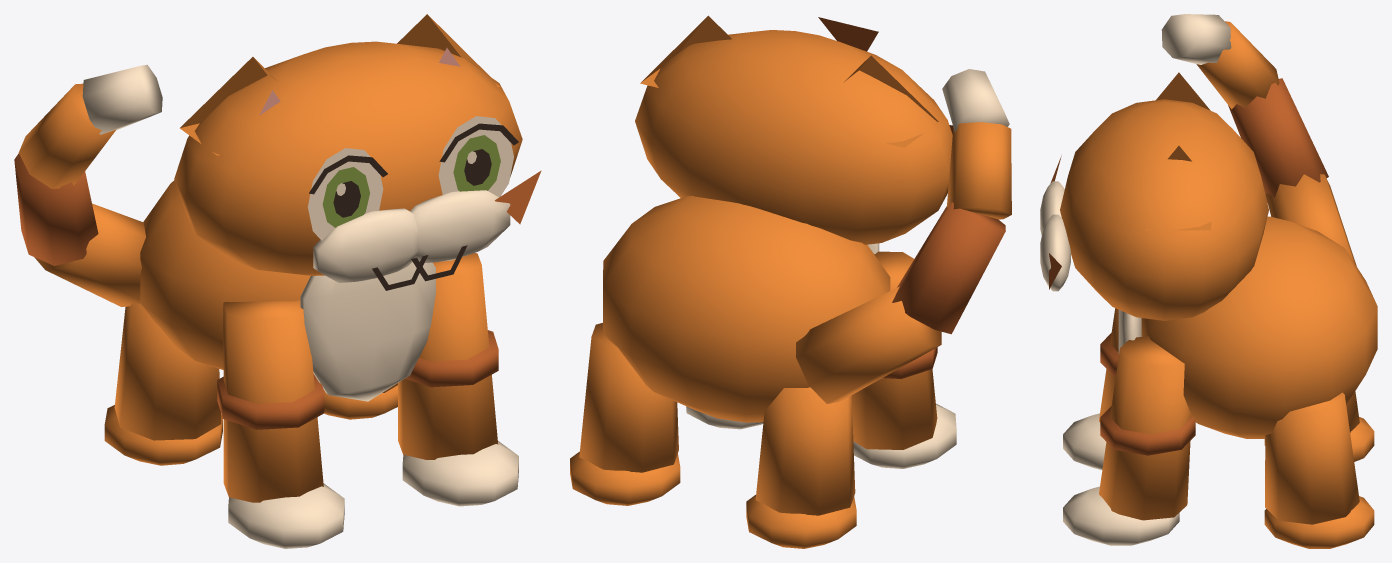
File: cat-stand.glb
3 renders of one model, left to right at view 1: azimuth 30°, elevation 25°; view 2: azimuth 150°, elevation 25°; view 3: azimuth 270°, elevation 25°, orthographic. The views are drawn at different scales.
Visible parts, largest first — view 1: cat-stand; view 2: cat-stand; view 3: cat-stand.
Boxes of the visible parts, x1,y1,x2,y2 form: cat-stand: (14,14,541,548); cat-stand: (570,15,1011,548); cat-stand: (1040,14,1377,548).
Bounding box in the file's own units: 0.6041 × 0.6192 × 0.4681.
